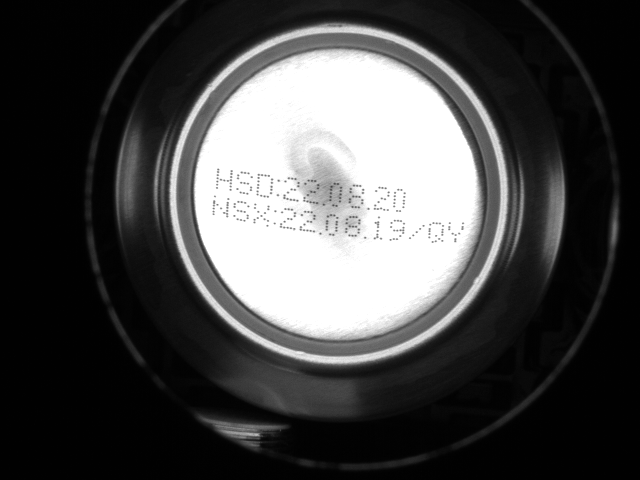/: (410, 222, 431, 245)
0: (390, 188, 412, 212), (328, 180, 344, 211), (327, 215, 347, 238)
1: (374, 217, 392, 242)
2: (277, 176, 305, 204), (276, 207, 301, 231), (304, 178, 322, 206), (302, 211, 323, 234), (373, 187, 389, 212)
8: (348, 215, 370, 239), (348, 183, 365, 211)
9: (393, 218, 409, 245)
D: (255, 173, 277, 199)
H: (212, 168, 236, 193)
N: (210, 198, 232, 221)
Q: (427, 223, 451, 245)
S: (233, 202, 255, 225), (237, 172, 253, 196)
X: (255, 203, 274, 226)
Y: (452, 219, 470, 244)
